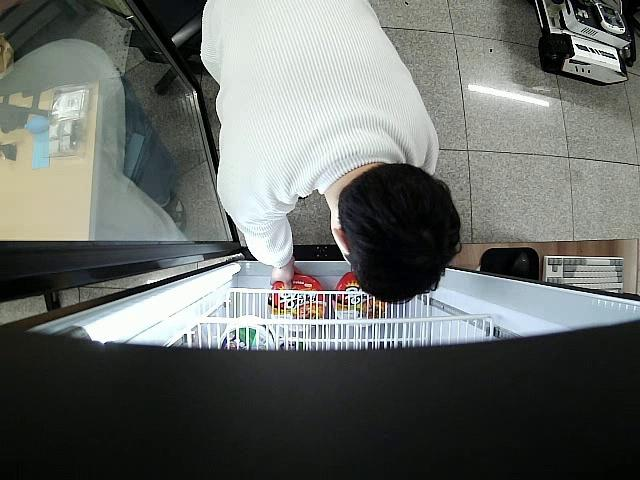00_hand: (271, 257, 298, 292)
10_wangTtukkeong: (269, 277, 325, 332)
